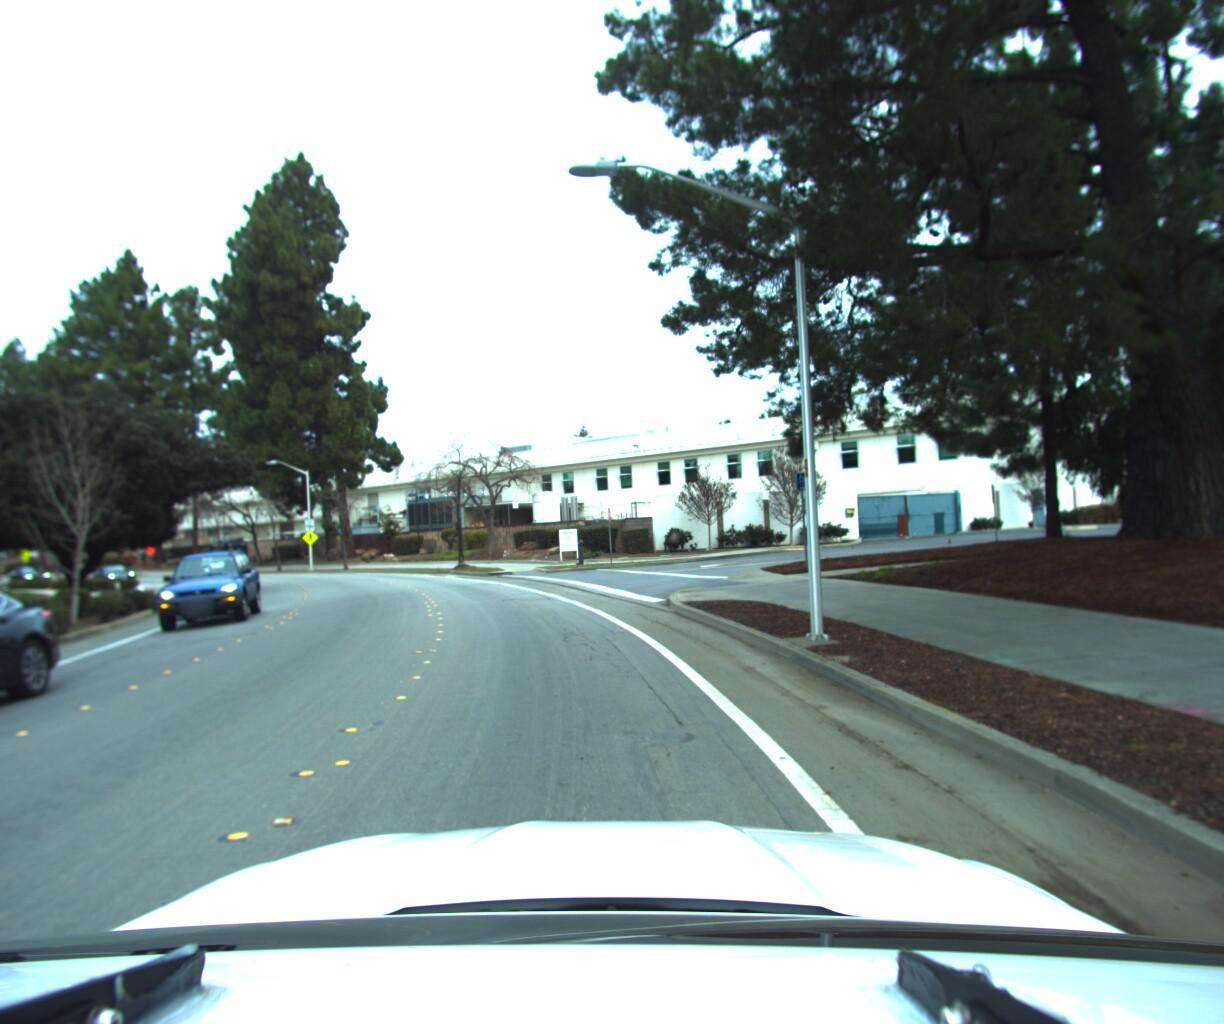car: (0, 569, 86, 822), (138, 542, 267, 636)
